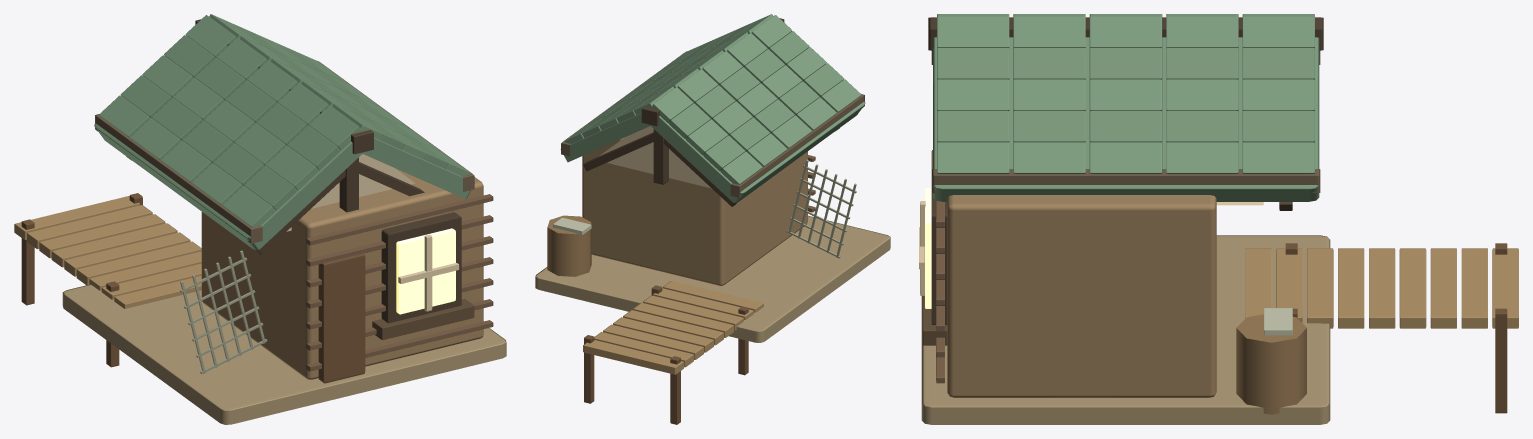
Rendered from fishinghut-1.glb.
3 renders of one model, left to right at view 1: azimuth 30°, elevation 25°; view 2: azimuth 150°, elevation 25°; view 3: azimuth 270°, elevation 25°, orthographic. The views are drawn at different scales.
Parts seen in each view (by area): view 1: fishinghut-1-0; view 2: fishinghut-1-0; view 3: fishinghut-1-0.
Part boxes in pixels (x1=…): fishinghut-1-0: x1=14, y1=14, x2=506, y2=424; fishinghut-1-0: x1=535, y1=14, x2=890, y2=424; fishinghut-1-0: x1=919, y1=14, x2=1518, y2=424.
Size of the model in its own units: 1.87 by 1.97 by 2.72.
